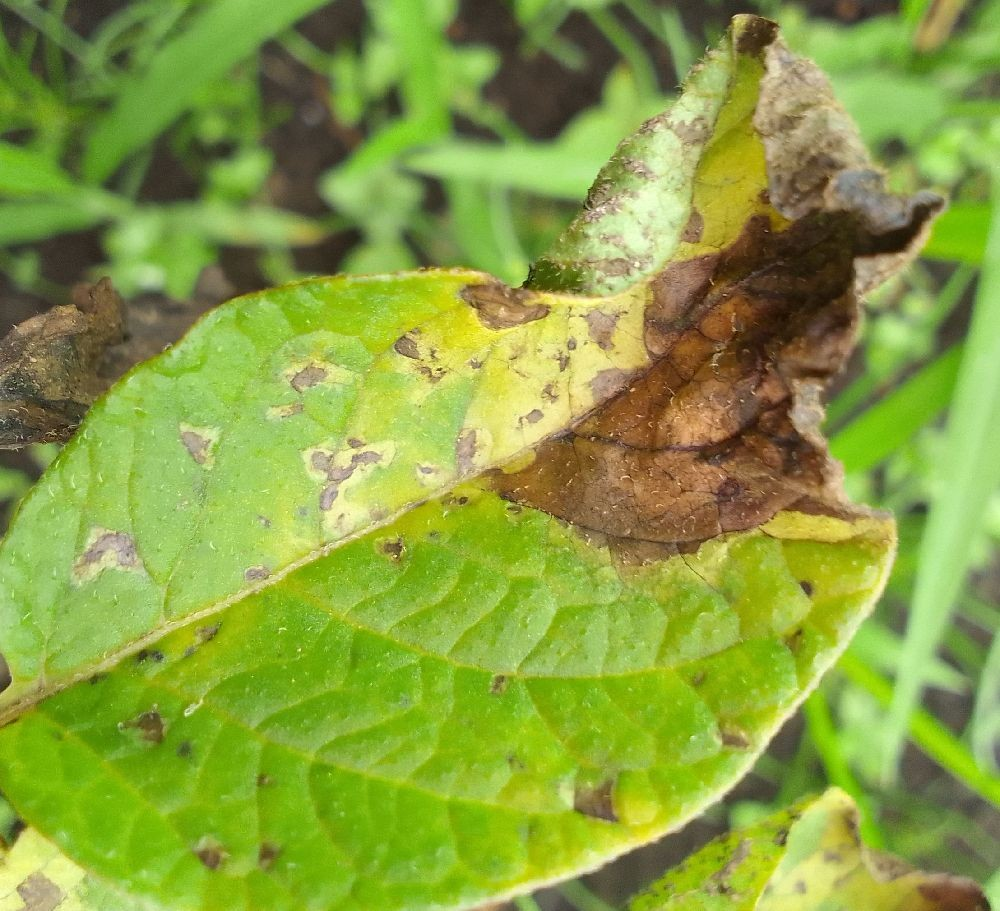late_blight: (420, 0, 969, 604), (0, 185, 311, 520), (201, 0, 439, 310), (0, 0, 168, 120)
